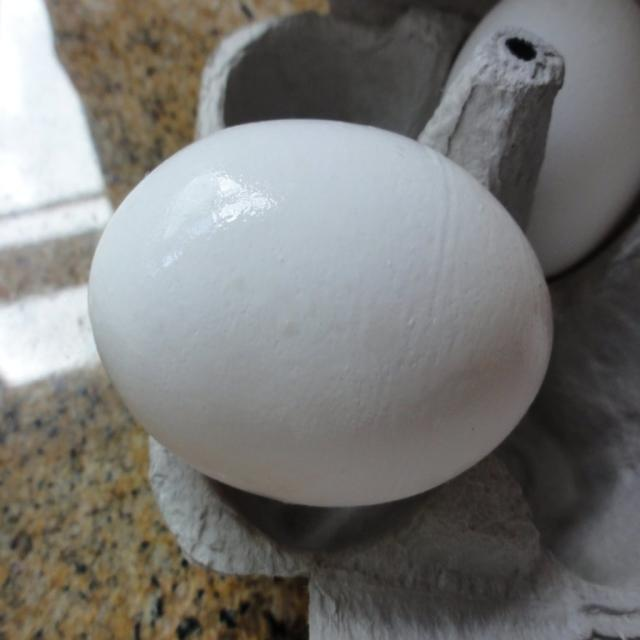Egg: (85, 120, 553, 510), (454, 0, 640, 278)
